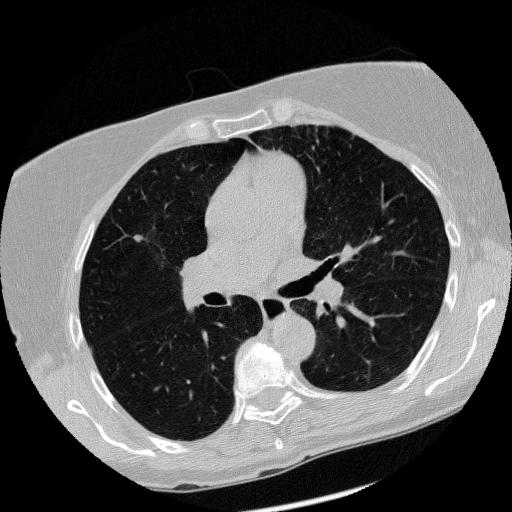nodule: (131, 232, 145, 246)
